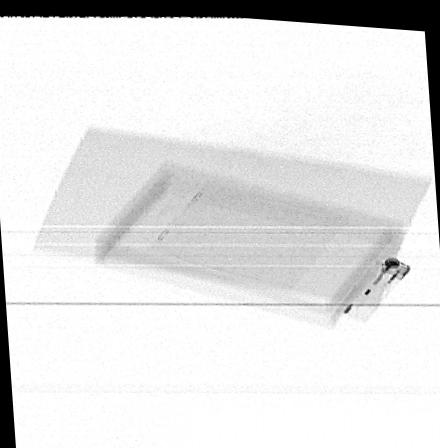Lighter: (333, 249, 412, 317)
